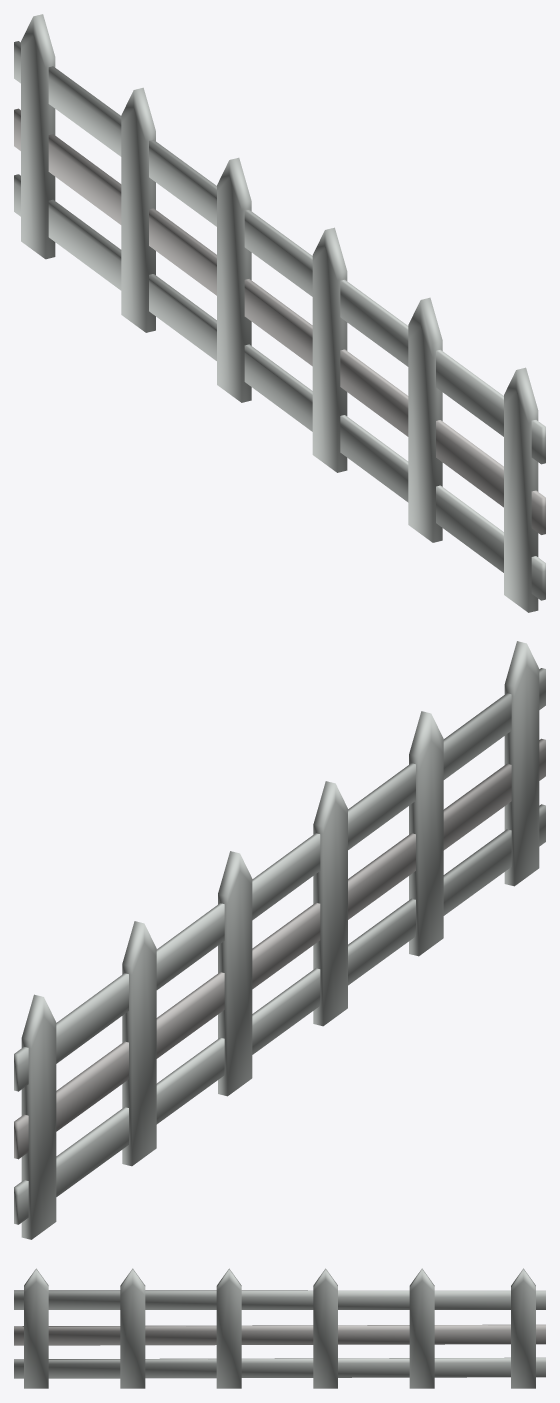
Rendered from FencePicketLarge_02.glb.
The picture shows the model from 3 angles, top to bottom: view 1: azimuth 30°, elevation 25°; view 2: azimuth 150°, elevation 25°; view 3: azimuth 270°, elevation 25°; orthographic projection. The views are drawn at different scales.
Visible parts, largest first — view 1: FencePicketLarge_02; view 2: FencePicketLarge_02; view 3: FencePicketLarge_02.
Part boxes in pixels (bbox=[...]): FencePicketLarge_02: bbox=[14, 14, 545, 612]; FencePicketLarge_02: bbox=[14, 641, 545, 1239]; FencePicketLarge_02: bbox=[14, 1268, 545, 1388].
Size of what is drawn, in the model's own units: 0.0534 by 1.21 by 4.94.
Materials: 1 (1 with a texture image).
